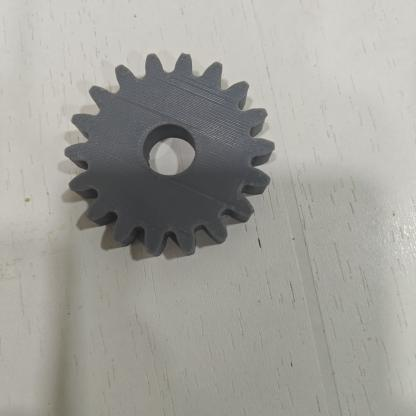gear: (53, 44, 290, 276)
